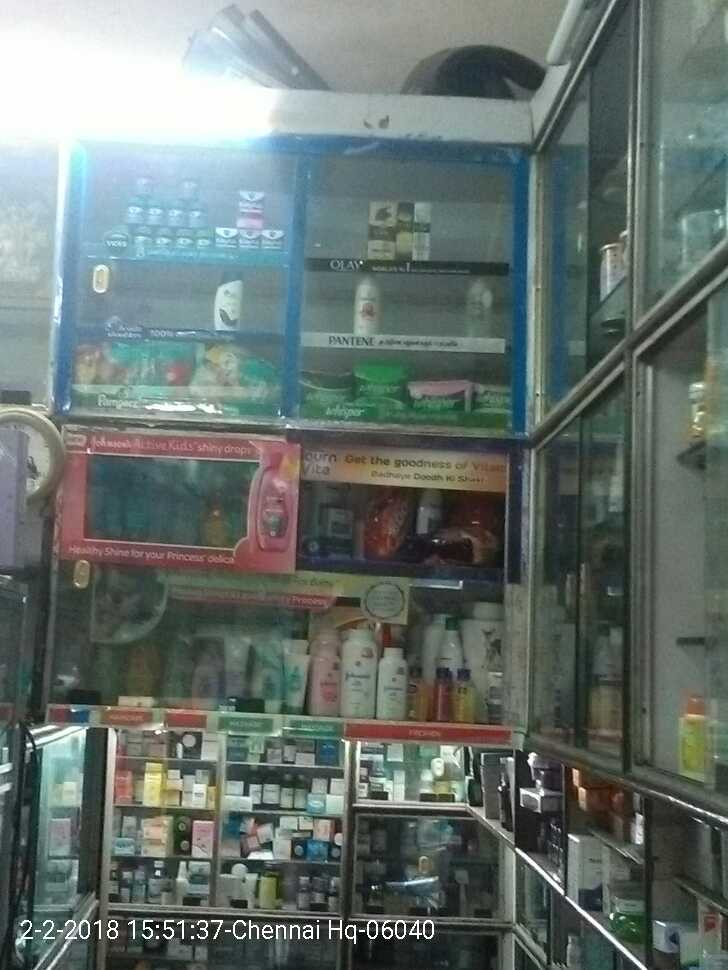vicks: (123, 169, 291, 257)
